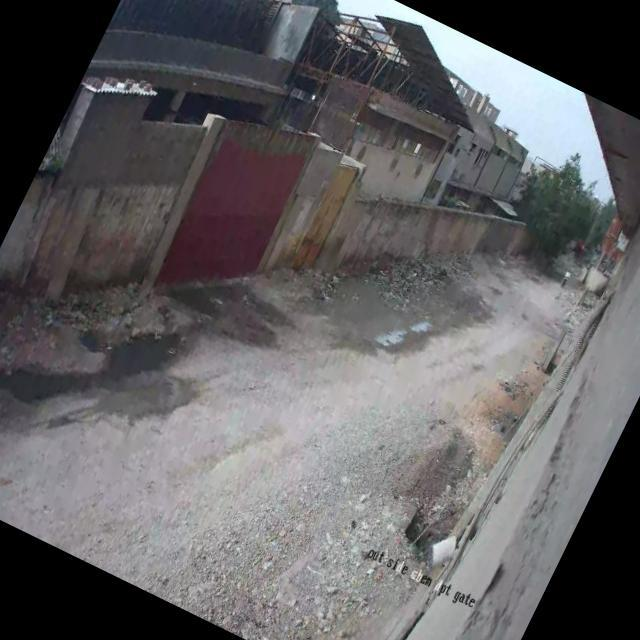person: (562, 269, 571, 281)
